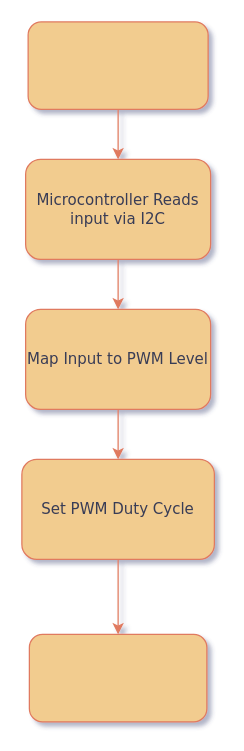
Some shapes in this 244 by 751 pixel diagram are drawn without their labels. The shapes that lost their labels are listed below. From the top down, each one's box as (x1, y1, x2, y2) in pixels, then its label:
(27, 21, 208, 109): Touch Sensor pressed
(28, 633, 207, 722): PWM Output to LED Driver
